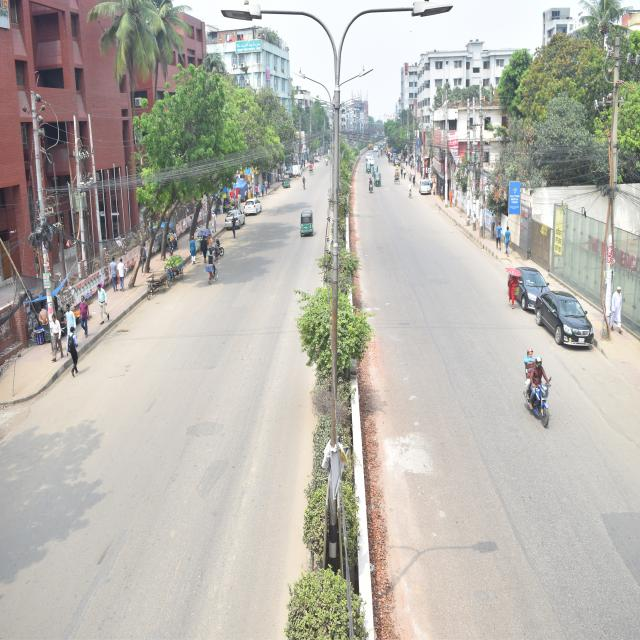car: (536, 268, 612, 398), (486, 232, 560, 333), (217, 189, 252, 246), (414, 171, 445, 222), (242, 188, 265, 227), (362, 150, 377, 164), (370, 157, 379, 176)
motorbike: (512, 320, 568, 445), (201, 225, 228, 276), (367, 176, 379, 210)
pickup-van: (283, 154, 304, 188)
